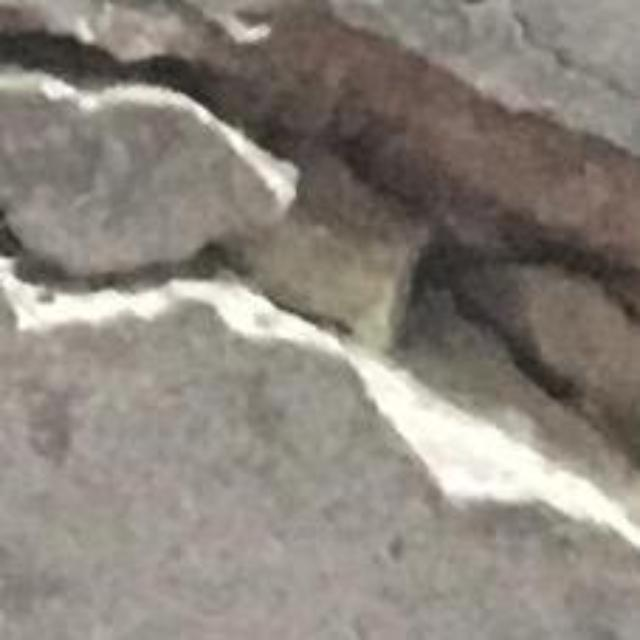crack: (0, 0, 639, 544)
